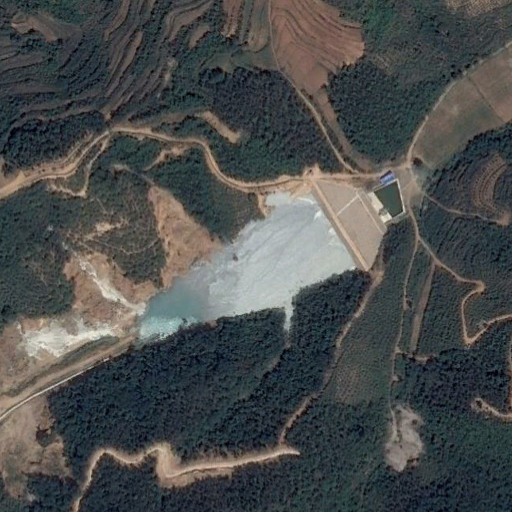tp: (135, 180, 388, 344)
